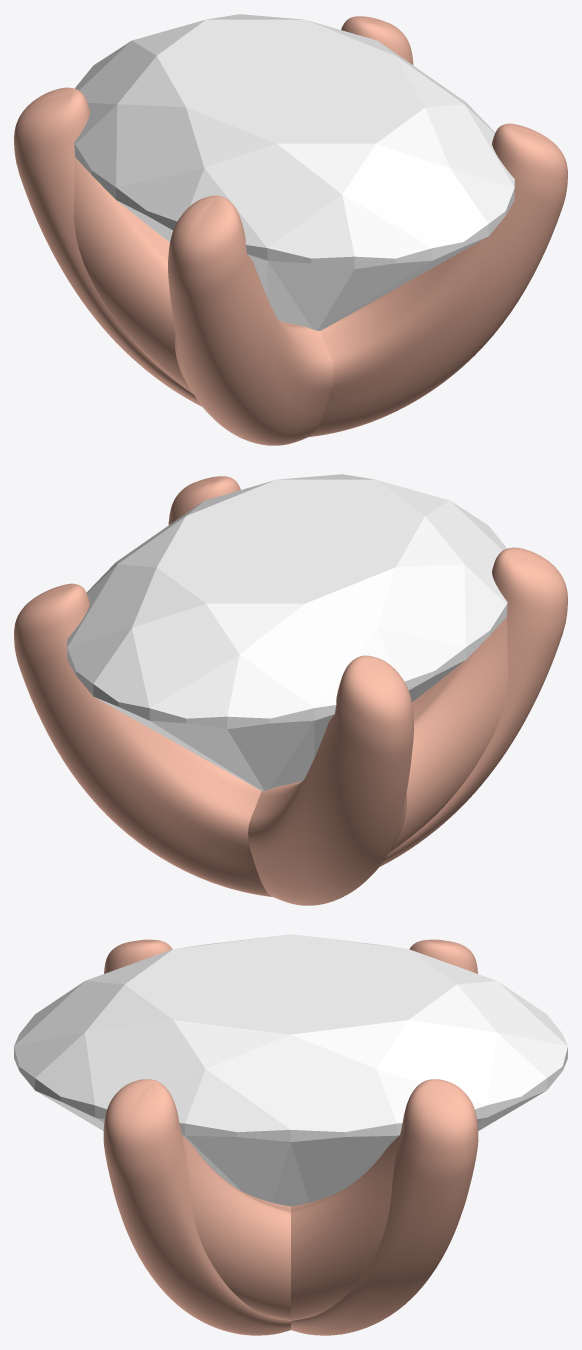
Rendered from oval_head.glb.
3 renders of one model, top to bottom at view 1: azimuth 30°, elevation 25°; view 2: azimuth 150°, elevation 25°; view 3: azimuth 270°, elevation 25°, orthographic. The views are drawn at different scales.
Visible parts, largest first — view 1: Diamond_Oval, Oval Head.3dm; view 2: Diamond_Oval, Oval Head.3dm; view 3: Diamond_Oval, Oval Head.3dm.
Boxes of the visible parts, bbox=[...] form: Diamond_Oval: bbox=[74, 14, 514, 330]; Oval Head.3dm: bbox=[14, 16, 567, 445]; Diamond_Oval: bbox=[67, 474, 507, 790]; Oval Head.3dm: bbox=[14, 476, 567, 905]; Diamond_Oval: bbox=[14, 934, 567, 1206]; Oval Head.3dm: bbox=[103, 939, 478, 1335].
Bounding box in the file's own units: 0.9658 × 0.8277 × 1.22.
